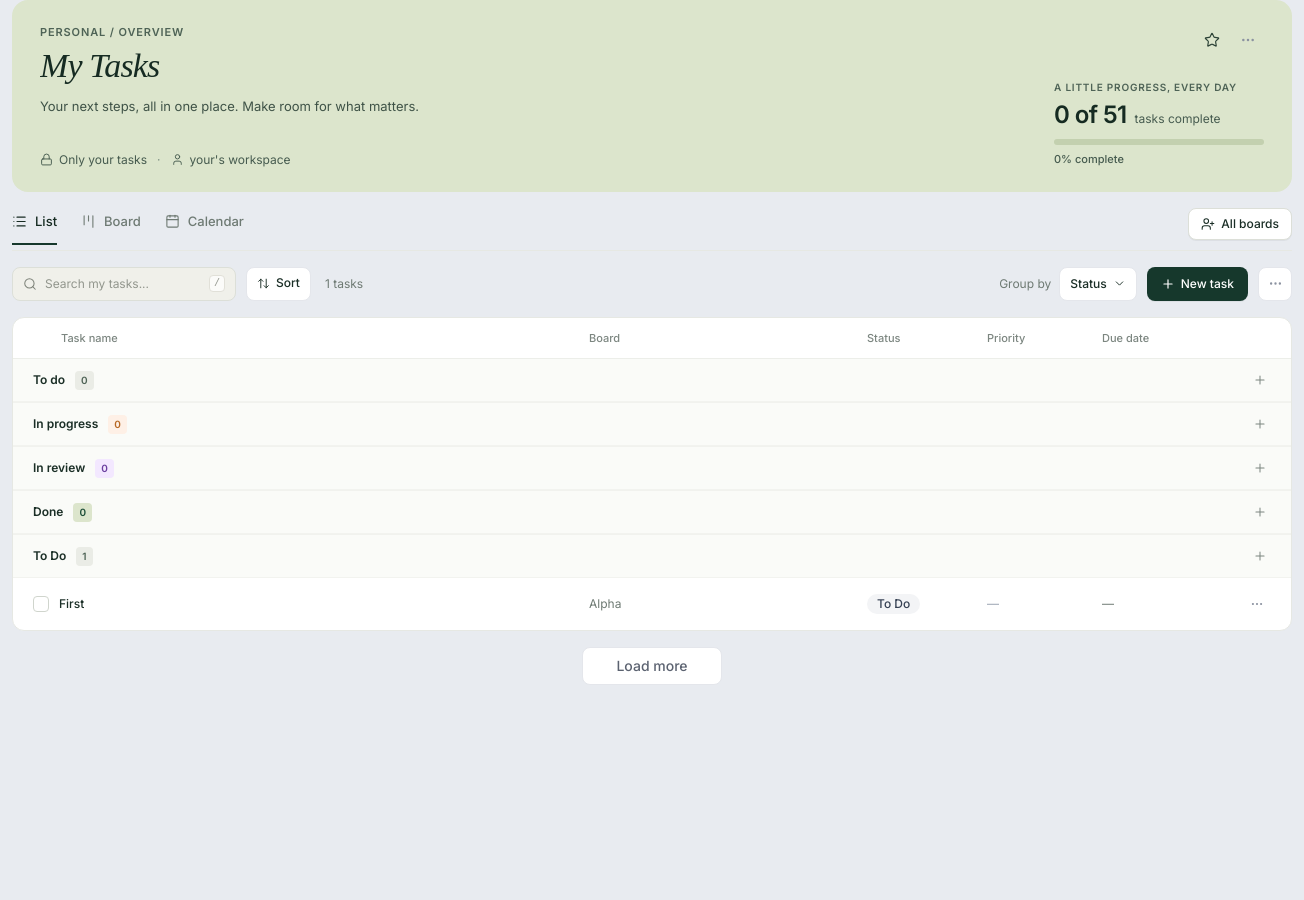
Test case: MyTasksList › loads the next page with Load more
The image size is (1304, 900).
Click the button "Load more" at [652, 666], box [582,647,722,685]
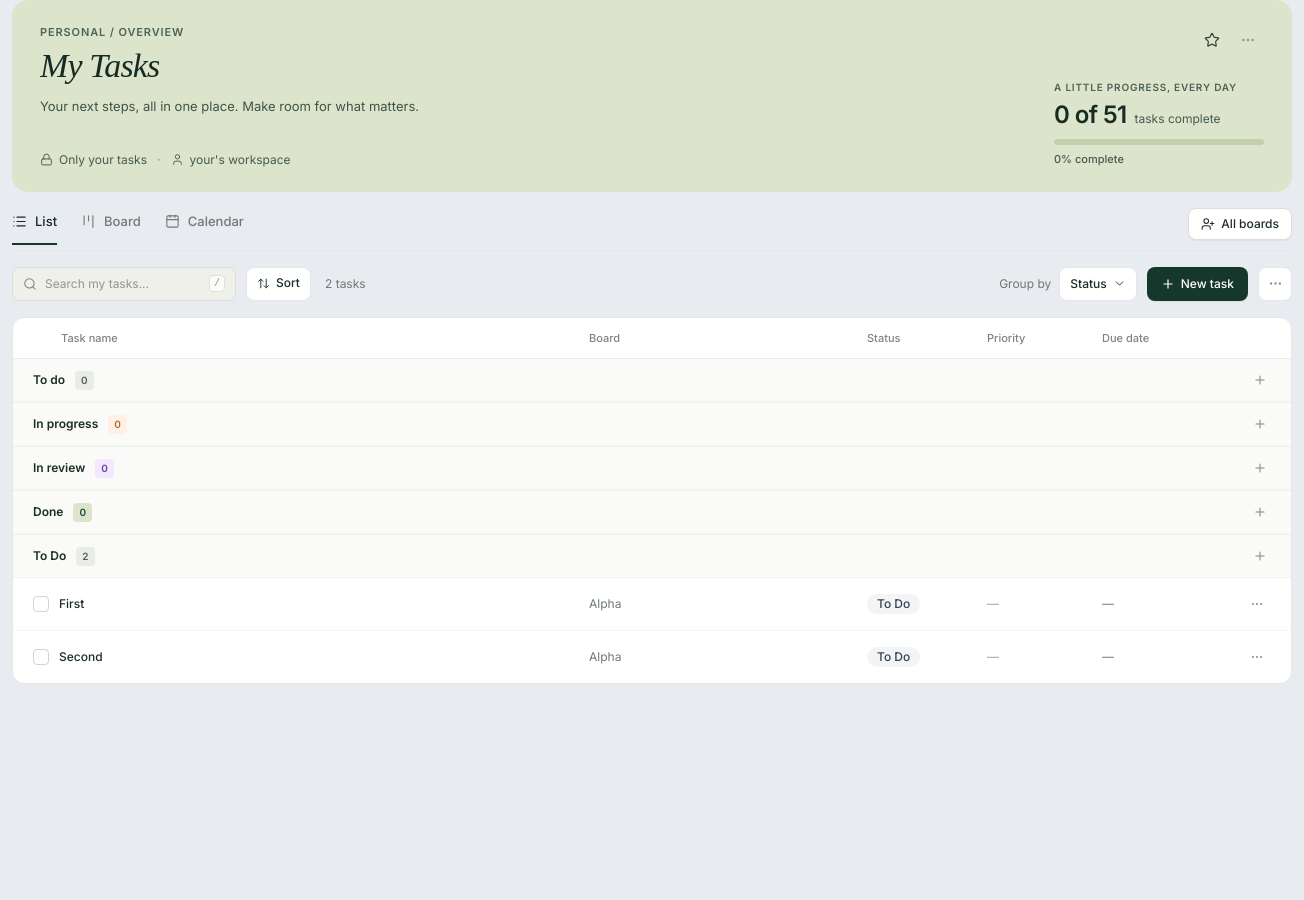
Expected: the link "First" is shown, [59,596,84,612]
Result: the link "Second" is shown at [59,649,103,665]
Result: the button "Load more" is gone
